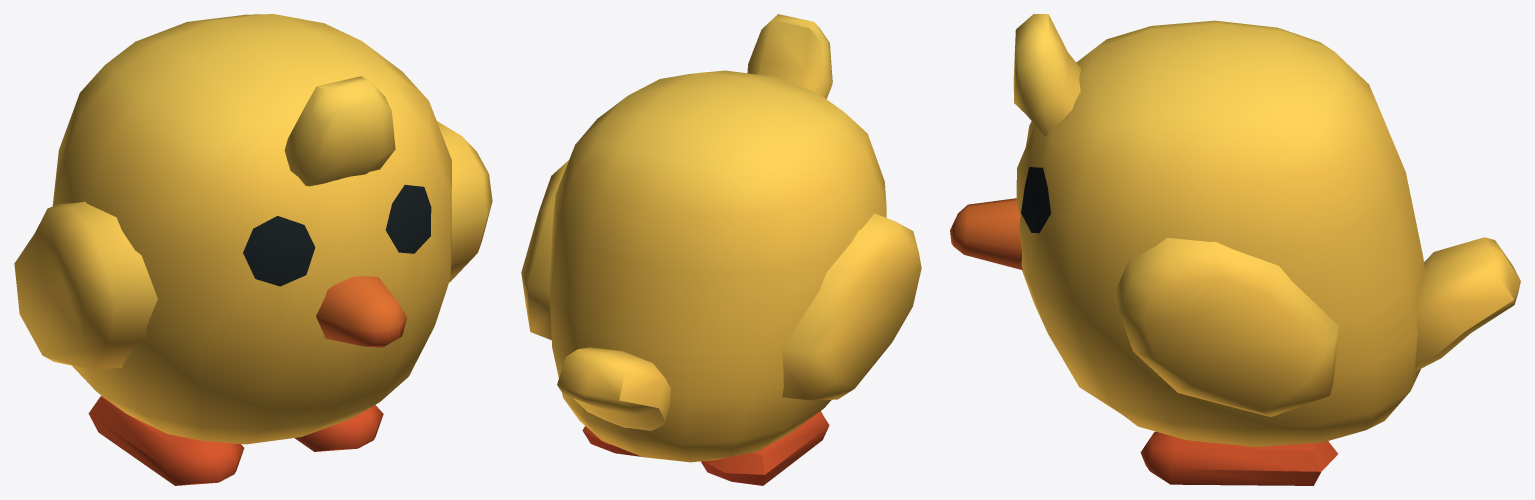
The model's file is bird.fbx.
3 renders of one model, left to right at view 1: azimuth 30°, elevation 25°; view 2: azimuth 150°, elevation 25°; view 3: azimuth 270°, elevation 25°, orthographic. The views are drawn at different scales.
Visible parts, largest first — view 1: bird; view 2: bird; view 3: bird.
Part boxes in pixels (x1,y1,x2,y2): bird: (14,14,492,485); bird: (521,14,921,485); bird: (950,14,1520,485).
Bounding box in the file's own units: 0.4422 × 0.4404 × 0.5501.
